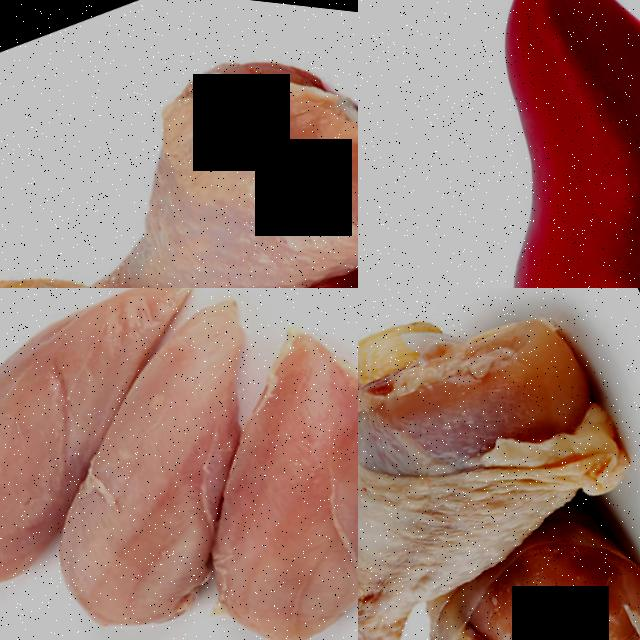chicken breast: (0, 288, 196, 597), (16, 441, 267, 640), (202, 327, 358, 640)
chicken thigh: (358, 288, 640, 640), (78, 0, 358, 288), (0, 127, 358, 288)
chilli: (358, 0, 640, 288)
